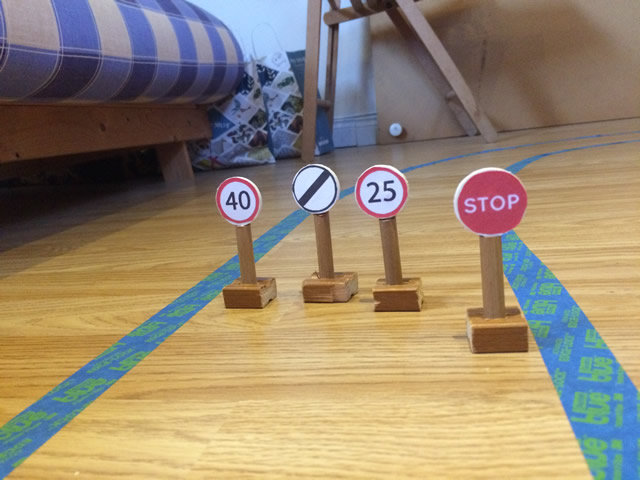Full Speed: (292, 165, 340, 212)
Speed Limit 25: (356, 165, 409, 218)
Speed Limit 40: (215, 177, 258, 226)
Stop Sign: (458, 168, 527, 234)
